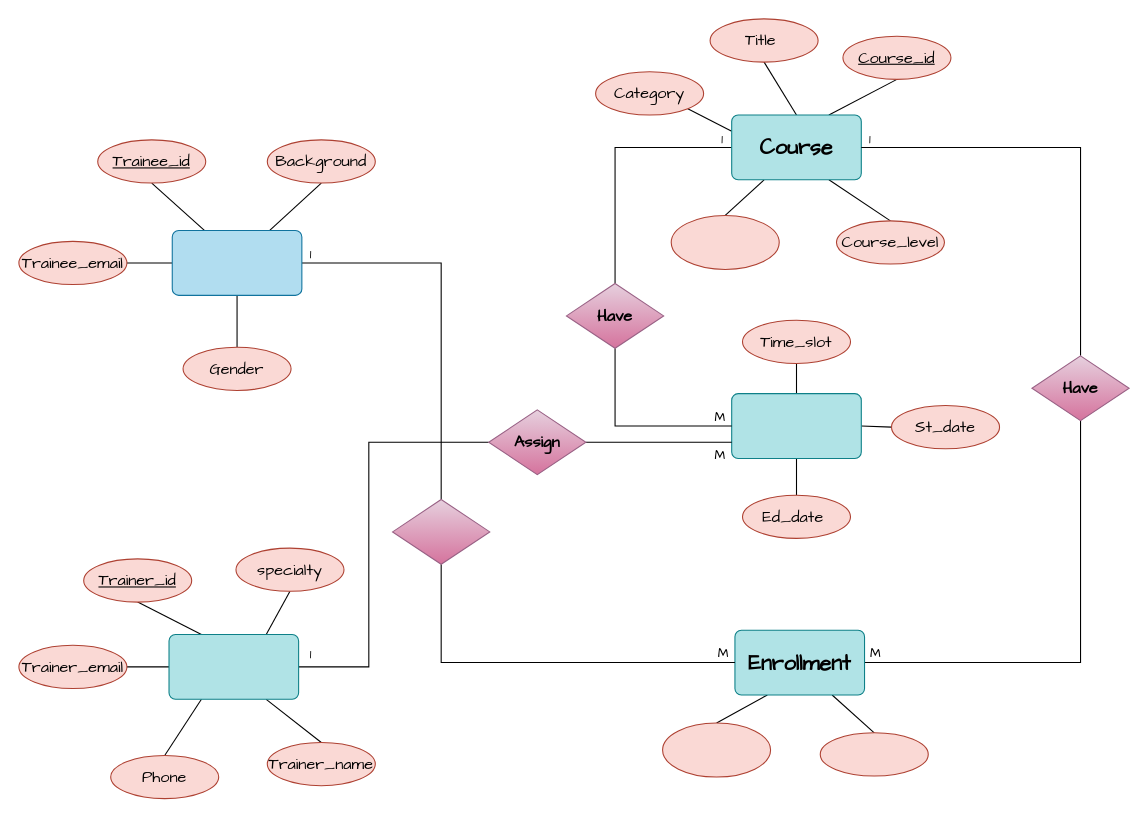
The diagram is 1148 pixels wide and 818 high, and some of its shapes have lost their labels. Here are the shapes that lost their labels. From the top down, the centre of each, then its label:
At (724,241): "Duration hrs".
At (236,262): "Trainee".
At (796,425): "Schedule".
At (441,531): "Enroll".
At (233,666): "Trainer".
At (716,749): "Enrollment date".
At (873,754): "Enrollment_id".
